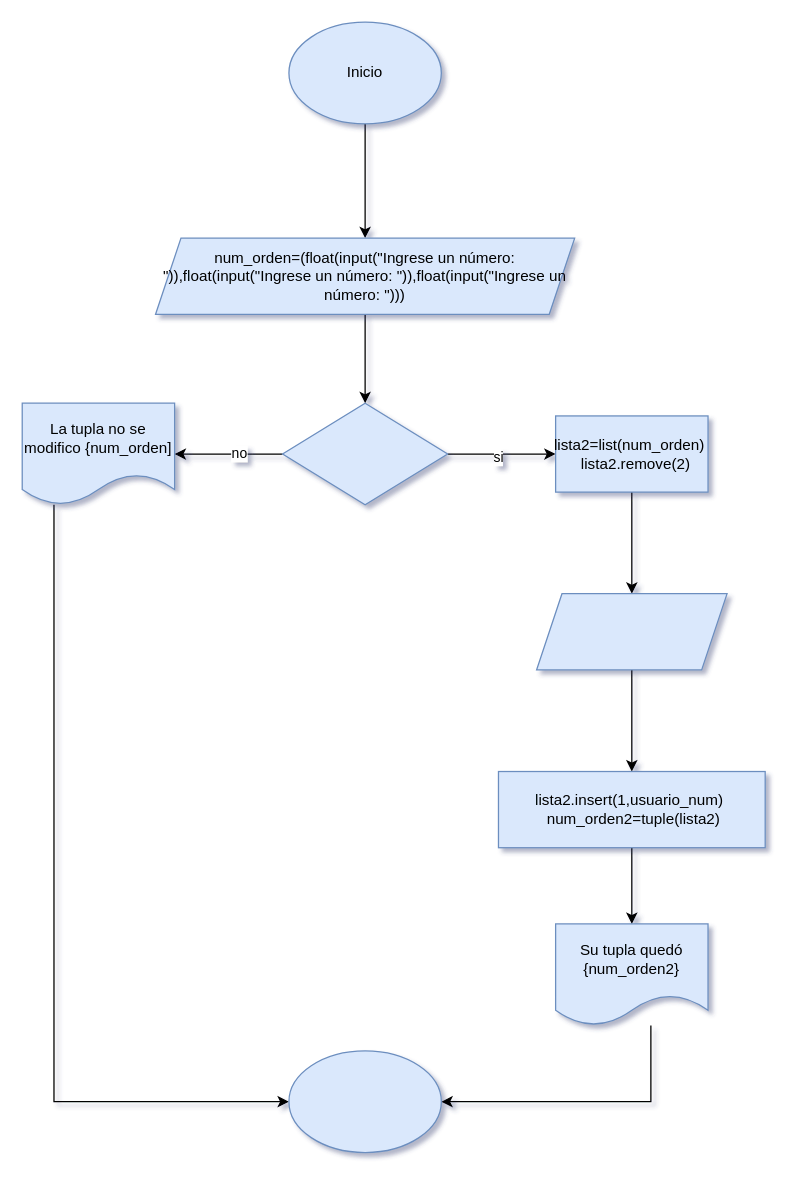
This 795x1182 diagram has some shape labels left out. Here are the shapes that lost their labels. From the top down, the centre of each, then its label:
pixel 364 453: num_orden[1]==2
pixel 631 631: usuario_num= float(input("Ingresé un número para remplazar el 2:"))
pixel 364 1101: Fin
